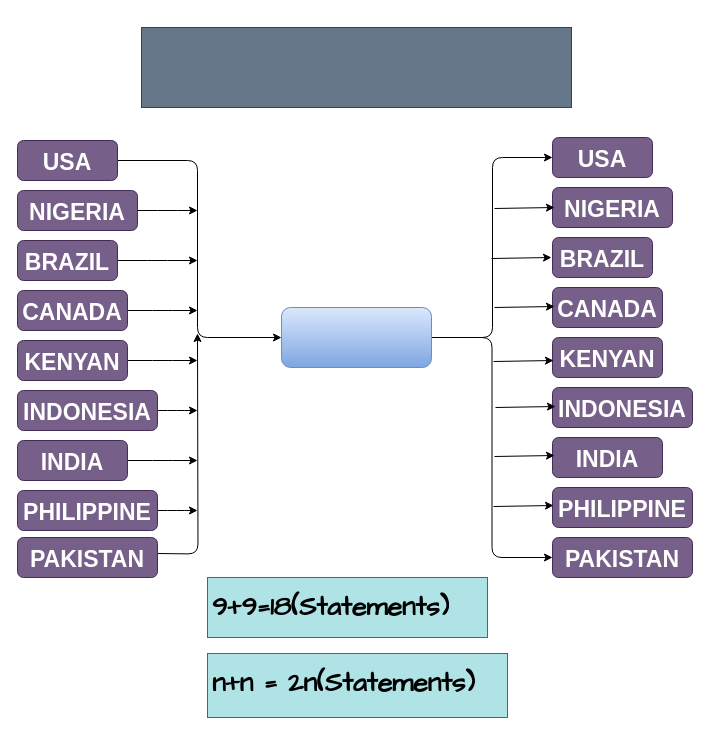
The diagram is 710 pixels wide and 735 high, and some of its shapes have lost their labels. The shapes that lost their labels are listed below. From the top down, each one's centre as x and y in pixels, then its label:
At point 356,67: "CURRENCY-CONVERTER".
At point 356,337: "pounds".
